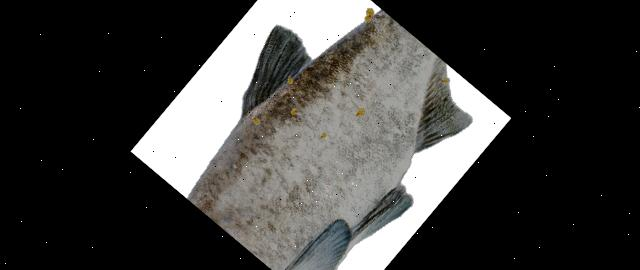Parasitic Disease: (187, 8, 471, 270), (187, 9, 471, 270)
